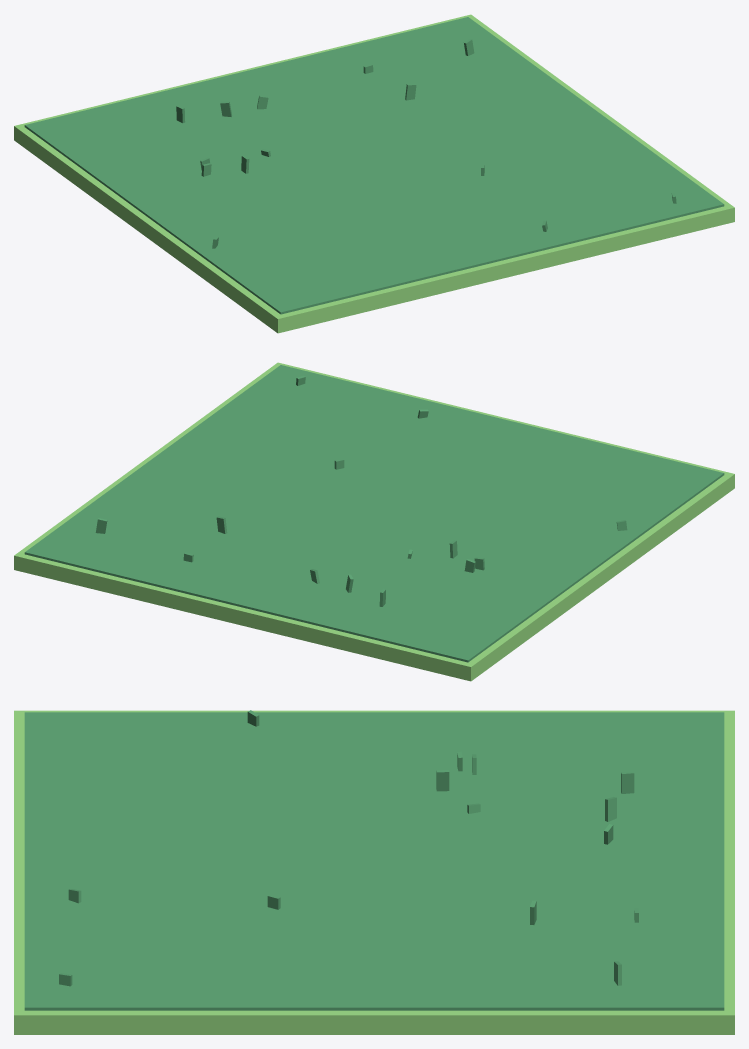
Rendered from lawn-mowing-simulator-kit-lawn-tile-2m-cut-6192b103__27385.glb.
The picture shows the model from 3 angles, top to bottom: view 1: azimuth 30°, elevation 25°; view 2: azimuth 150°, elevation 25°; view 3: azimuth 270°, elevation 25°; orthographic projection. The views are drawn at different scales.
Parts seen in each view (by area): view 1: lawn-tile-2m-cut; view 2: lawn-tile-2m-cut; view 3: lawn-tile-2m-cut.
Part boxes in pixels (x1,y1,x2,y2): lawn-tile-2m-cut: [14, 14, 734, 333]; lawn-tile-2m-cut: [14, 362, 734, 681]; lawn-tile-2m-cut: [14, 710, 734, 1034].
Bounding box in the file's own units: 2 × 0.1318 × 2.
